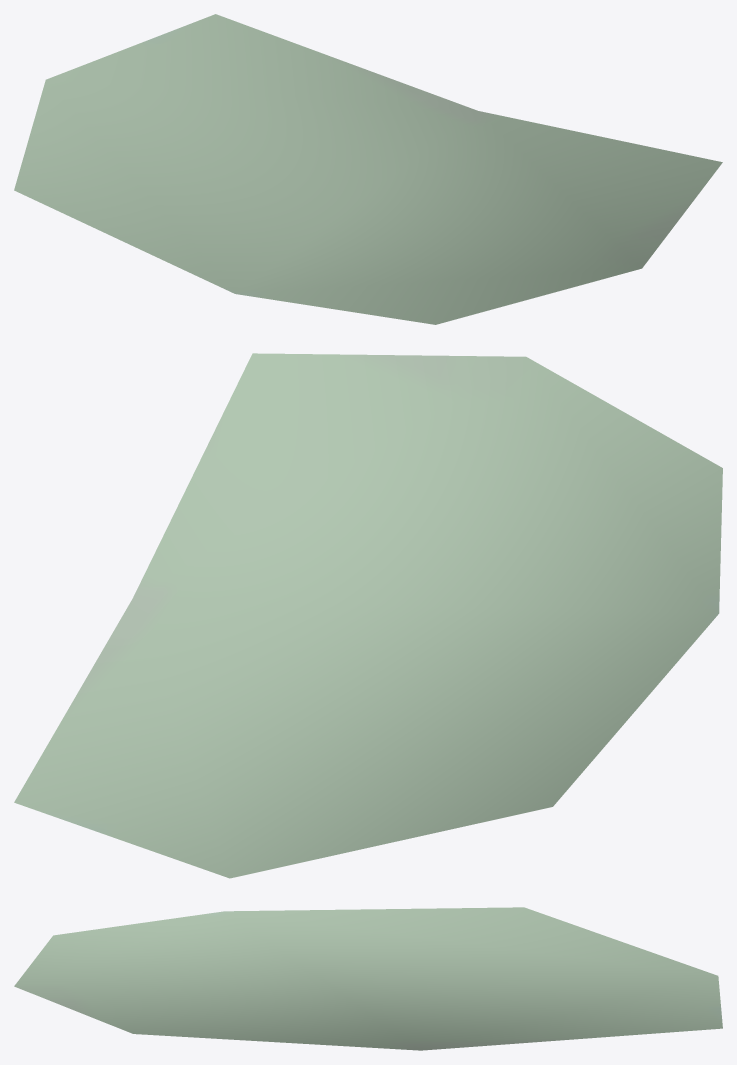
The model's file is TROLLHOLE02_HOLECAP86.fbx.
The picture shows the model from 3 angles, top to bottom: view 1: azimuth 30°, elevation 25°; view 2: azimuth 150°, elevation 25°; view 3: azimuth 270°, elevation 25°; orthographic projection. The views are drawn at different scales.
Parts seen in each view (by area): view 1: TROLLHOLE02_HOLECAP86; view 2: TROLLHOLE02_HOLECAP86; view 3: TROLLHOLE02_HOLECAP86.
Boxes of the visible parts, bbox=[...] form: TROLLHOLE02_HOLECAP86: bbox=[14, 14, 722, 324]; TROLLHOLE02_HOLECAP86: bbox=[14, 353, 722, 878]; TROLLHOLE02_HOLECAP86: bbox=[14, 907, 722, 1050].
Bounding box in the file's own units: 10090 × 1855 × 15452.
1 material, 1 textured.
